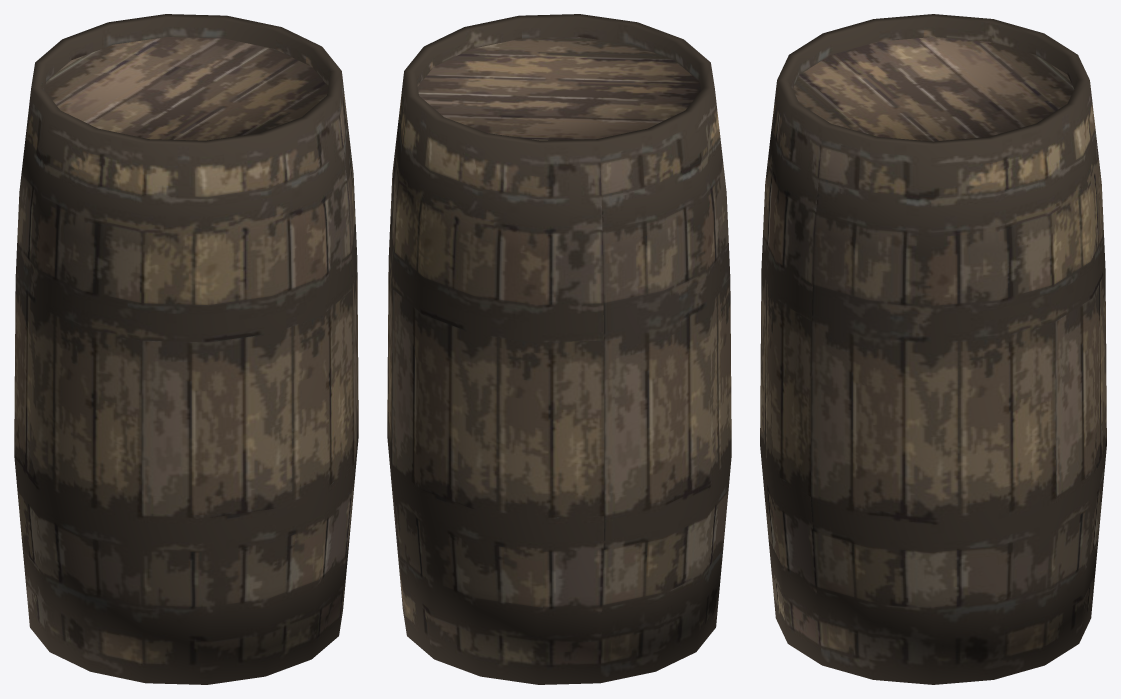
File: Stage_Obj008.fbx
The picture shows the model from 3 angles, left to right: view 1: azimuth 30°, elevation 25°; view 2: azimuth 150°, elevation 25°; view 3: azimuth 270°, elevation 25°; orthographic projection.
Parts seen in each view (by area): view 1: SM_SampleGame_Barrel001; view 2: SM_SampleGame_Barrel001; view 3: SM_SampleGame_Barrel001.
Boxes of the visible parts, bbox=[...] form: SM_SampleGame_Barrel001: bbox=[14, 14, 358, 684]; SM_SampleGame_Barrel001: bbox=[387, 14, 731, 684]; SM_SampleGame_Barrel001: bbox=[760, 14, 1106, 684].
Bounding box in the file's own units: 63.85 × 109 × 63.84.
1 material, 1 textured.
